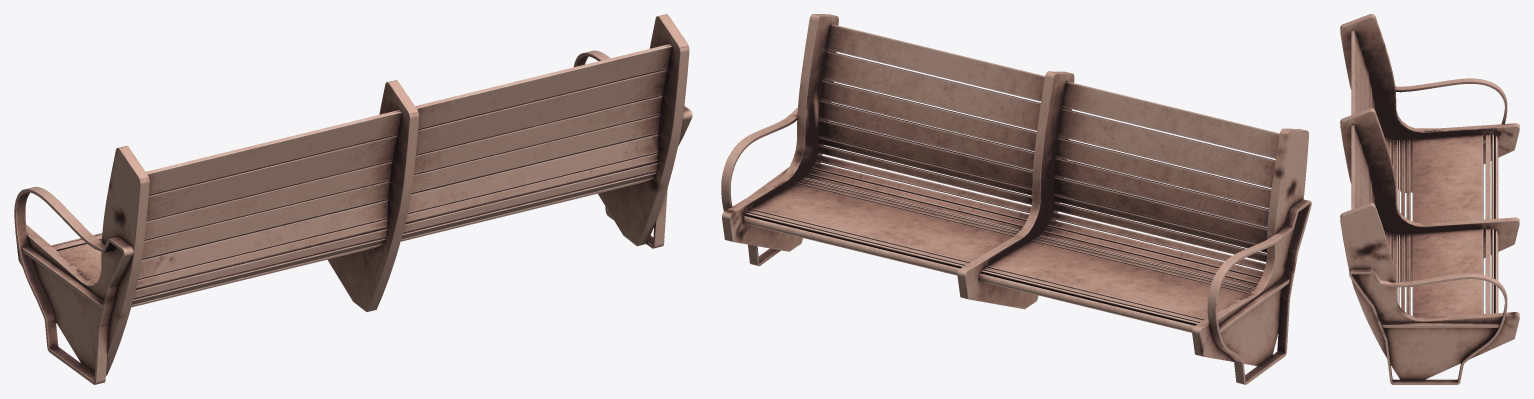
File: bancosSentar.obj
3 views of the same model, side by side, from view 1: azimuth 30°, elevation 25°; view 2: azimuth 150°, elevation 25°; view 3: azimuth 270°, elevation 25° (orthographic). The views are drawn at different scales.
Visible parts, largest first — view 1: defaultMaterial_wood_01, defaultMaterial_steel; view 2: defaultMaterial_wood_01, defaultMaterial_steel; view 3: defaultMaterial_steel, defaultMaterial_wood_01.
Boxes of the visible parts, <box> form: defaultMaterial_wood_01: <box>51,44,672,307</box>; defaultMaterial_steel: <box>14,14,692,384</box>; defaultMaterial_wood_01: <box>743,24,1279,332</box>; defaultMaterial_steel: <box>721,14,1311,384</box>; defaultMaterial_steel: <box>1340,14,1519,384</box>; defaultMaterial_wood_01: <box>1351,30,1498,317</box>.
Size of the model in its own units: 7.94 by 3.27 by 3.03.
